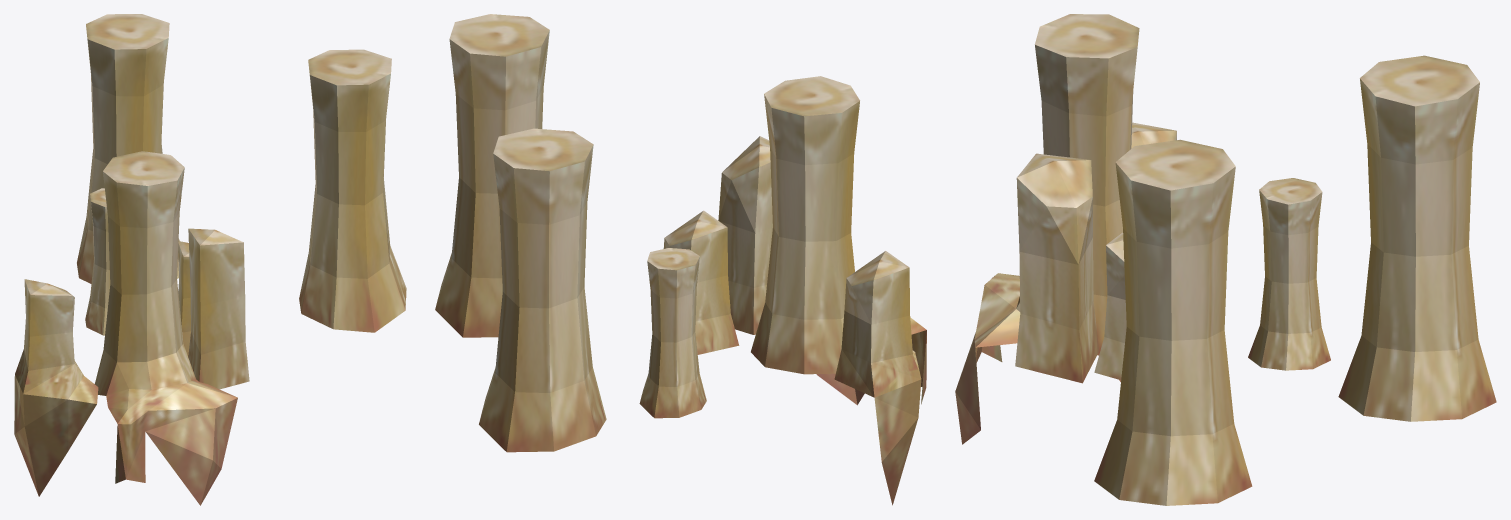
File: Lazhu.FBX
3 views of the same model, side by side, from view 1: azimuth 30°, elevation 25°; view 2: azimuth 150°, elevation 25°; view 3: azimuth 270°, elevation 25° (orthographic). The views are drawn at different scales.
Parts seen in each view (by area): view 1: 对象037; view 2: 对象037; view 3: 对象037.
Part boxes in pixels (bbox=[...]): 对象037: bbox=[14, 14, 406, 505]; 对象037: bbox=[435, 14, 926, 505]; 对象037: bbox=[955, 14, 1496, 505].
Size of the model in its own units: 170 by 138 by 150.
